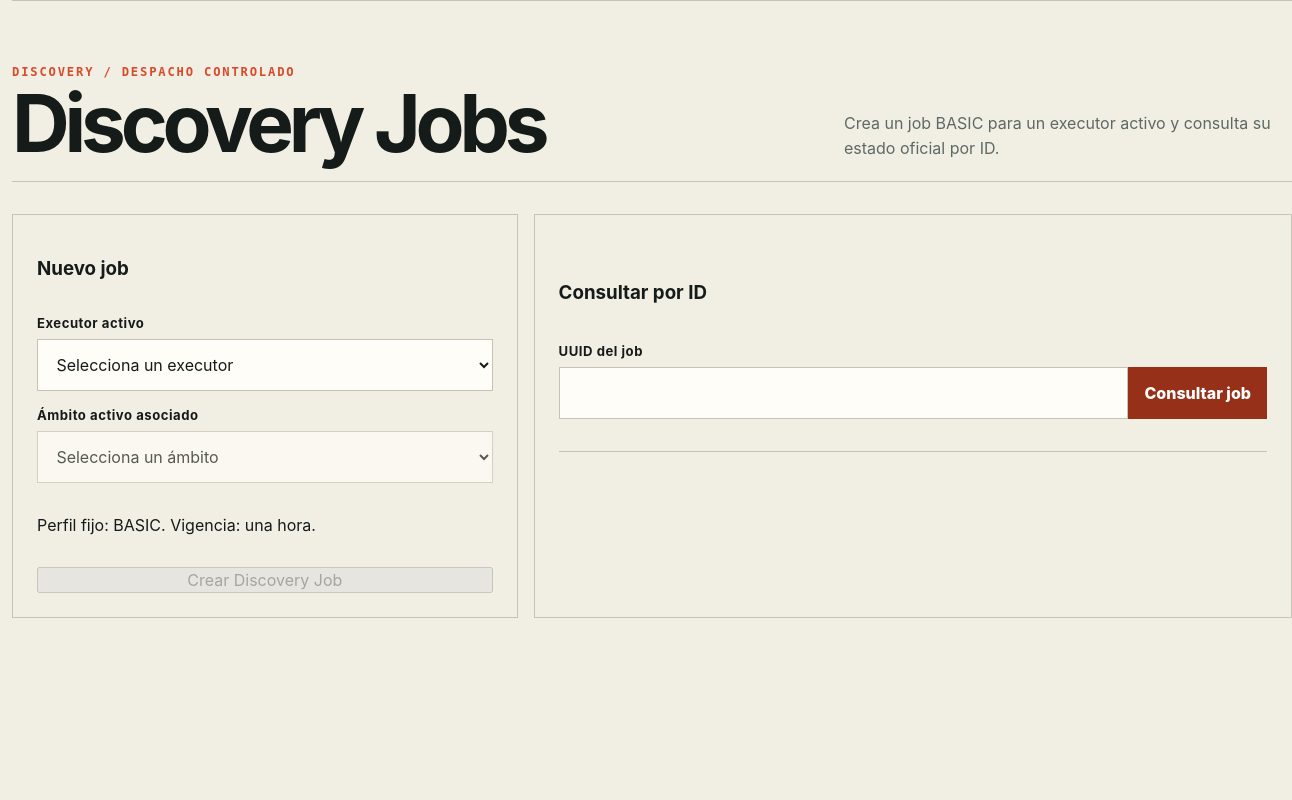
Test: DiscoveryJobWorkspace › creates a BASIC job for an active executor and associated active scope
This screenshot has width=1292, height=800.
Select "Office executor" in the dropdown labelled "Executor activo" at (265, 365), box [37,339,493,391]
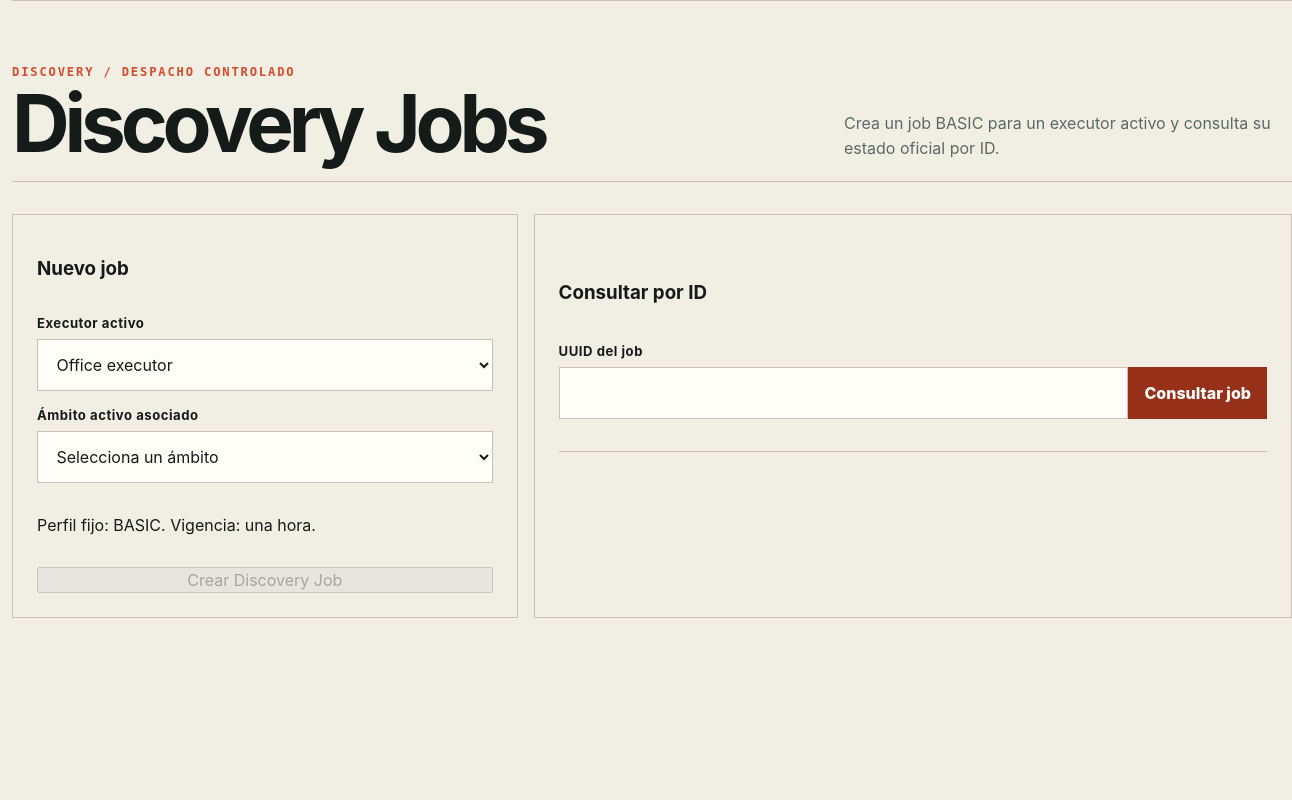
Select "Office network · 192.0.2.0/24" in the dropdown labelled "Ámbito activo asociado" at (265, 457), box [37,431,493,483]
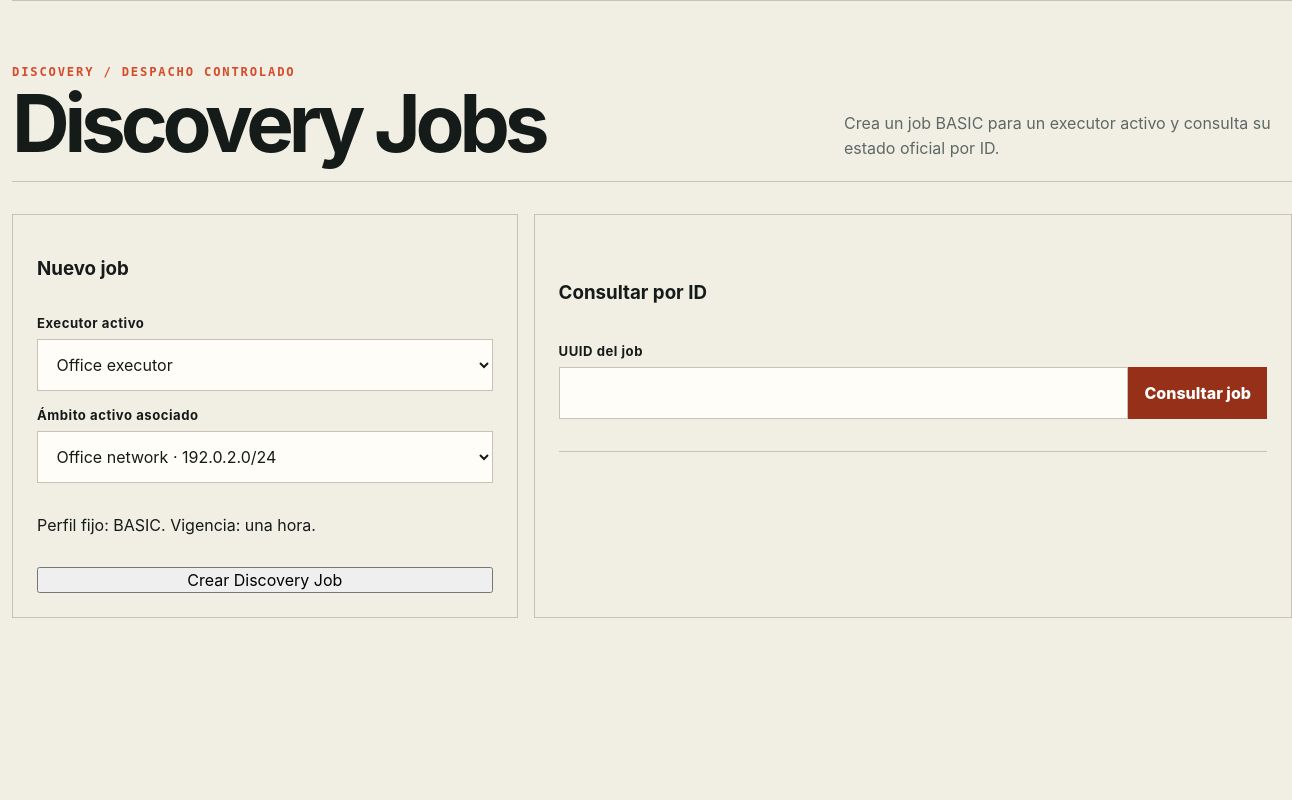
Click the button "Crear Discovery Job" at (265, 580), box [37,567,493,593]
(page scrolled)
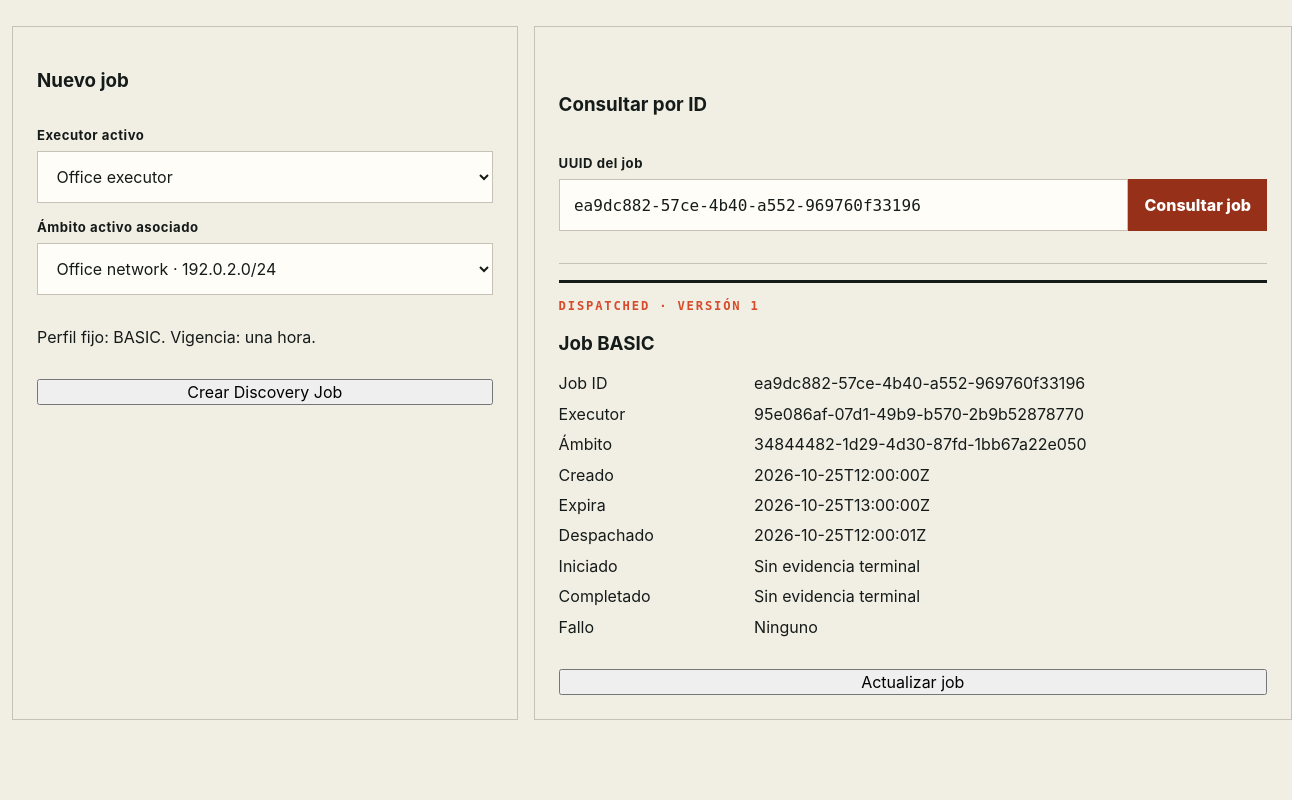
Now the heading "Job BASIC" is shown, box [559,332,655,355]
Now the element named "Estado del Discovery Job" shows "DISPATCHED · versión 1", box [559,280,1267,653]
